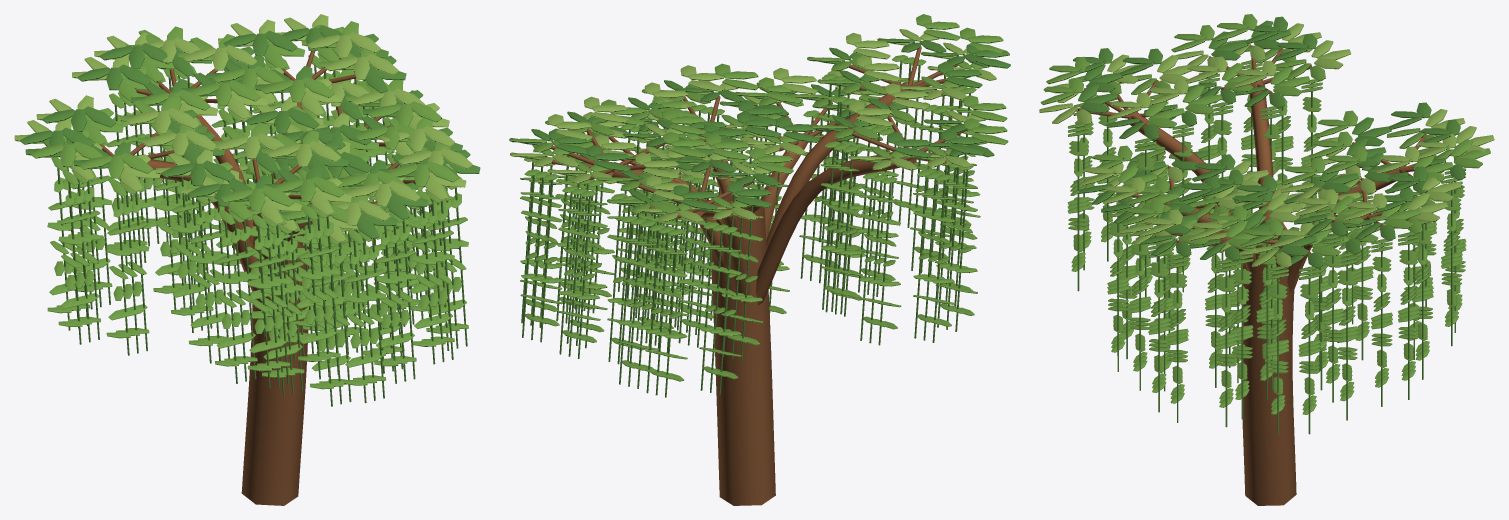
File: LV_CAY_LIEU_01.glb
3 renders of one model, left to right at view 1: azimuth 30°, elevation 25°; view 2: azimuth 150°, elevation 25°; view 3: azimuth 270°, elevation 25°, orthographic. The views are drawn at different scales.
Visible parts, largest first — view 1: branches-and-leaves-surface-6b9c41, branches-and-leaves-surface-53873a, branches-and-leaves-surface-88ad51, LV_CAY_LIEU_01-surface-825331, branches-and-leaves-surface-825331; view 2: branches-and-leaves-surface-6b9c41, branches-and-leaves-surface-53873a, branches-and-leaves-surface-88ad51, LV_CAY_LIEU_01-surface-825331, branches-and-leaves-surface-825331; view 3: branches-and-leaves-surface-6b9c41, branches-and-leaves-surface-53873a, branches-and-leaves-surface-88ad51, LV_CAY_LIEU_01-surface-825331, branches-and-leaves-surface-825331.
Part boxes in pixels (x1,y1,x2,y2): branches-and-leaves-surface-6b9c41: (31,21,468,389); branches-and-leaves-surface-53873a: (20,25,480,406); branches-and-leaves-surface-88ad51: (14,14,472,242); LV_CAY_LIEU_01-surface-825331: (241,214,309,505); branches-and-leaves-surface-825331: (100,51,415,301); branches-and-leaves-surface-6b9c41: (509,14,1008,381); branches-and-leaves-surface-53873a: (509,38,1010,397); branches-and-leaves-surface-88ad51: (510,29,996,222); LV_CAY_LIEU_01-surface-825331: (711,195,775,505); branches-and-leaves-surface-825331: (551,46,970,305); branches-and-leaves-surface-6b9c41: (1040,14,1490,414); branches-and-leaves-surface-53873a: (1073,16,1465,434); branches-and-leaves-surface-88ad51: (1039,23,1494,268); LV_CAY_LIEU_01-surface-825331: (1241,235,1296,505); branches-and-leaves-surface-825331: (1078,45,1451,292).
Bounding box in the file's own units: 5.57 × 5.17 × 5.67.
